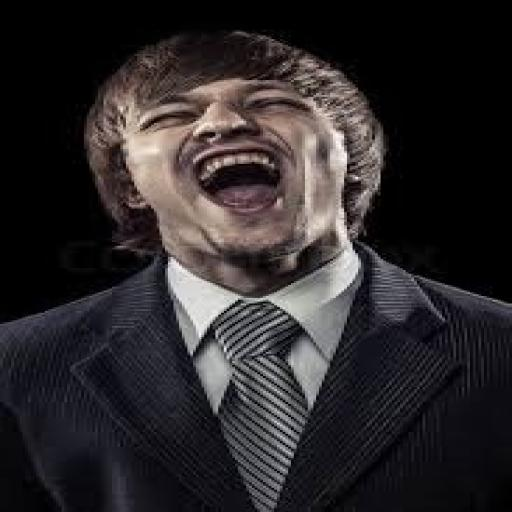laughing: (0, 22, 509, 510)
